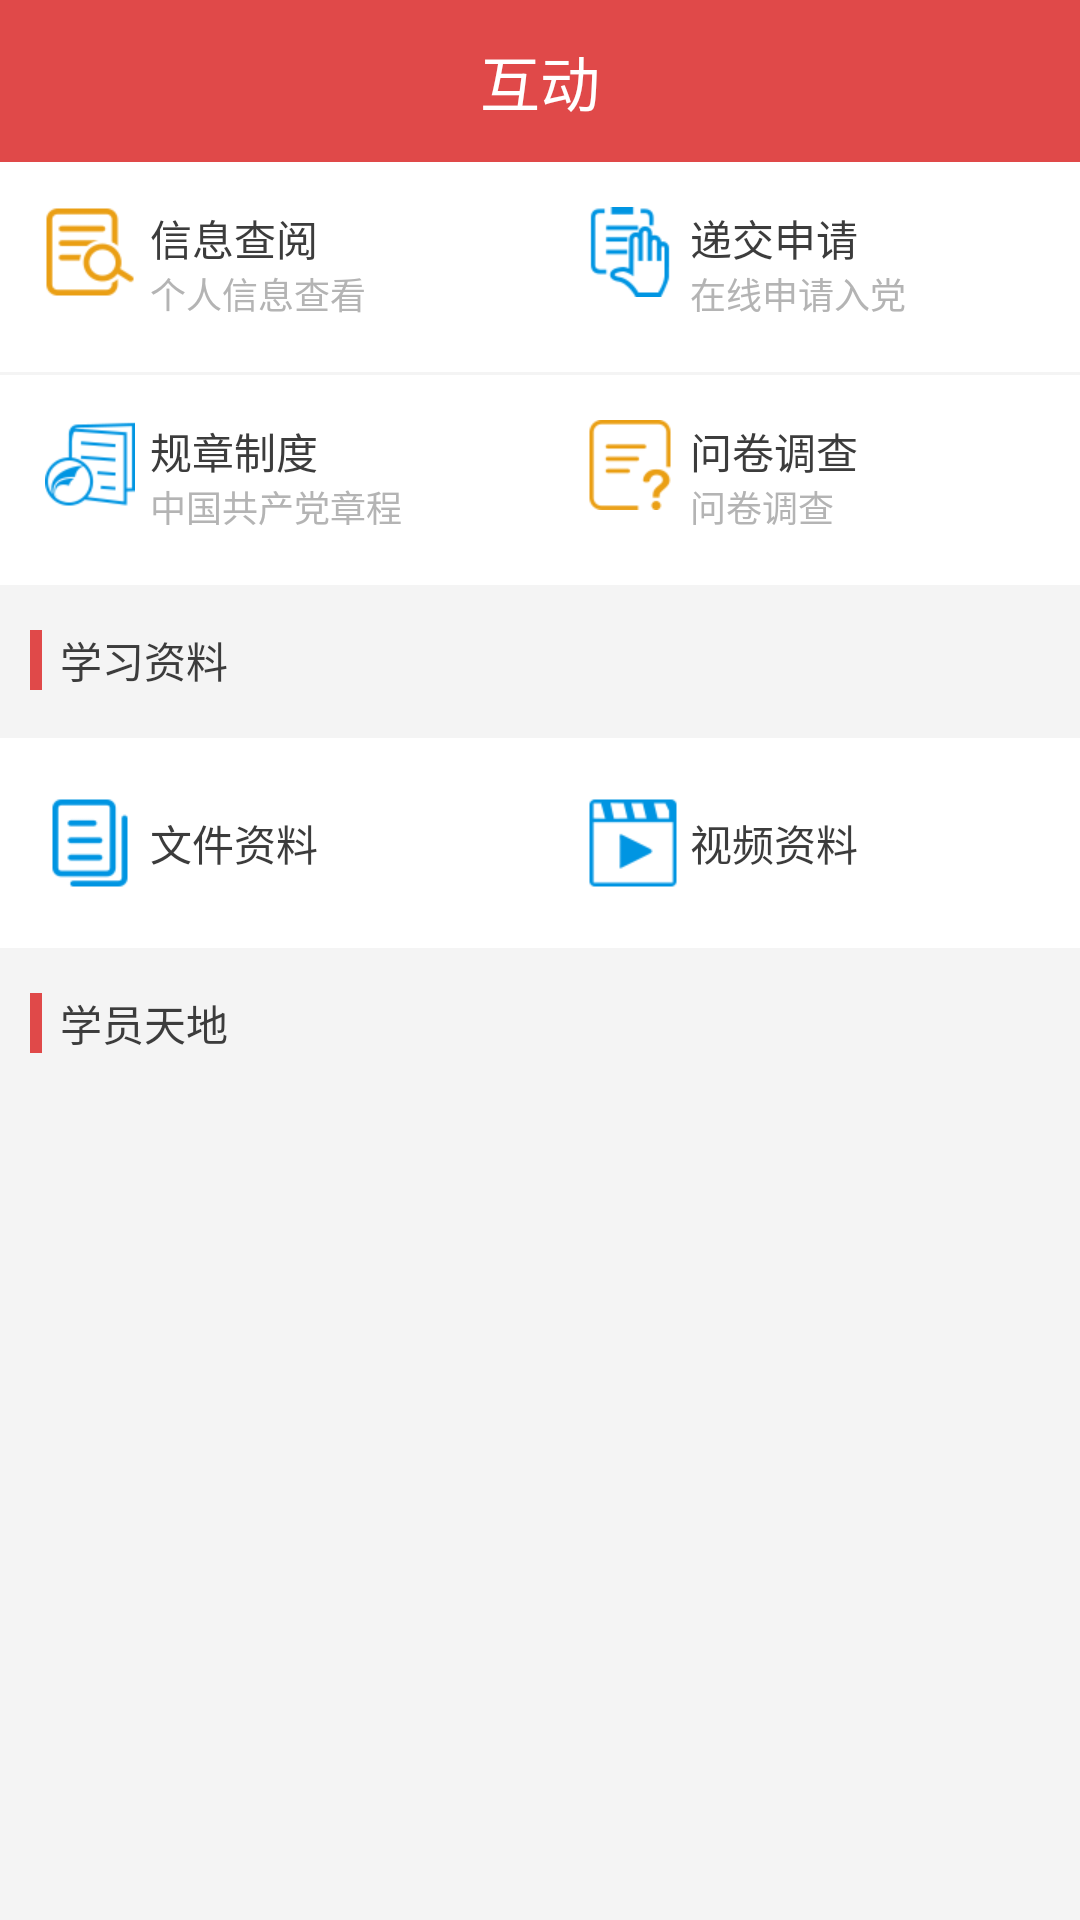

Locate icon controls on the screen. Image size 1080 x 1920, boxes as detection(x1, y1, x2, y2).
file info: detection(52, 799, 128, 887)
info check: detection(46, 208, 134, 296)
questionnaire: detection(589, 420, 671, 510)
rules: detection(45, 422, 135, 506)
submit application: detection(590, 207, 670, 297)
video info: detection(589, 799, 677, 887)
